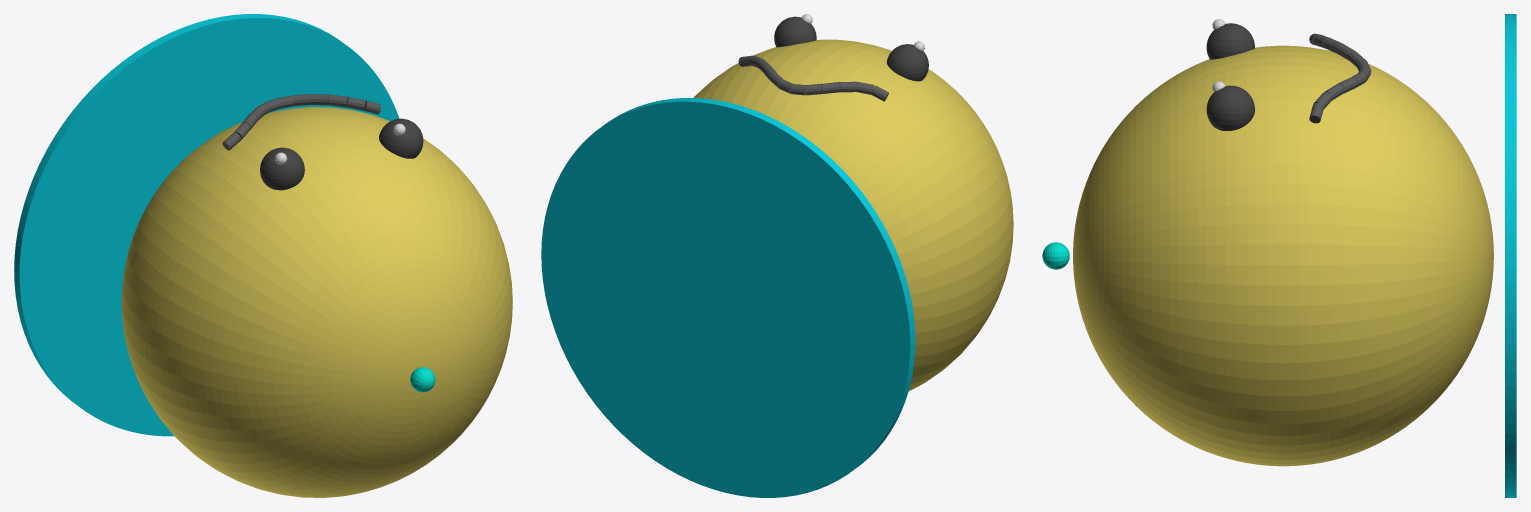
The model's file is sarahmemory_happy_face_ball.glb.
3 views of the same model, side by side, from view 1: azimuth 30°, elevation 25°; view 2: azimuth 150°, elevation 25°; view 3: azimuth 270°, elevation 25° (orthographic). The views are drawn at different scales.
Parts seen in each view (by area): view 1: SarahMemory_HappyFaceBall_Head, SarahMemory_HologramBase, SarahMemory_LeftEye, SarahMemory_RightEye; view 2: SarahMemory_HologramBase, SarahMemory_HappyFaceBall_Head, SarahMemory_LeftEye, SarahMemory_RightEye; view 3: SarahMemory_HappyFaceBall_Head, SarahMemory_HologramBase, SarahMemory_RightEye, SarahMemory_LeftEye, SarahMemory_StatusDot.
Boxes of the visible parts, left/top/right/bottom form: SarahMemory_HappyFaceBall_Head: left=121, top=107, right=512, bottom=497; SarahMemory_HologramBase: left=14, top=14, right=399, bottom=436; SarahMemory_LeftEye: left=260, top=147, right=304, bottom=190; SarahMemory_RightEye: left=379, top=118, right=423, bottom=158; SarahMemory_HologramBase: left=541, top=98, right=915, bottom=497; SarahMemory_HappyFaceBall_Head: left=693, top=39, right=1013, bottom=391; SarahMemory_LeftEye: left=886, top=44, right=928, bottom=81; SarahMemory_RightEye: left=774, top=16, right=816, bottom=47; SarahMemory_HappyFaceBall_Head: left=1073, top=45, right=1493, bottom=466; SarahMemory_HologramBase: left=1505, top=14, right=1516, bottom=497; SarahMemory_RightEye: left=1206, top=85, right=1254, bottom=130; SarahMemory_LeftEye: left=1206, top=23, right=1254, bottom=59; SarahMemory_StatusDot: left=1042, top=242, right=1069, bottom=269.
Bounding box in the file's own units: 2.3 × 2.3 × 2.25.
